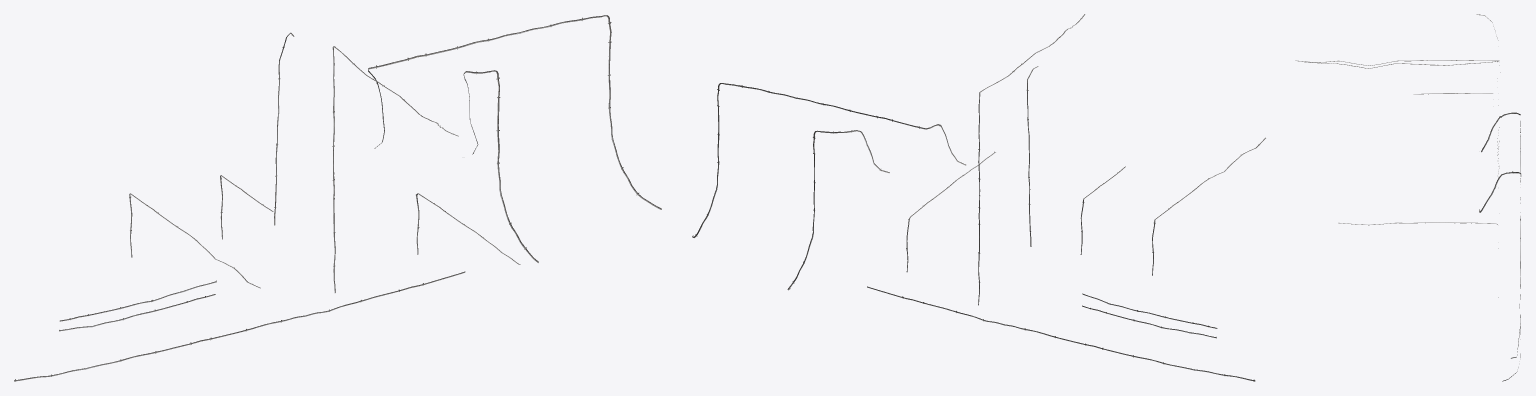
The model's file is ThickWires.FBX.
The picture shows the model from 3 angles, left to right: view 1: azimuth 30°, elevation 25°; view 2: azimuth 150°, elevation 25°; view 3: azimuth 270°, elevation 25°; orthographic projection. The views are drawn at different scales.
Visible parts, largest first — view 1: ThickWire_06, ThickWire_01, ThickWire_09, ThickWire_02; view 2: ThickWire_06, ThickWire_01, ThickWire_09; view 3: ThickWire_06, ThickWire_02, ThickWire_08, ThickWire_09.
Part boxes in pixels (x1=…): ThickWire_06: x1=368, y1=15, x2=661, y2=209; ThickWire_01: x1=14, y1=271, x2=465, y2=381; ThickWire_09: x1=332, y1=46, x2=458, y2=292; ThickWire_02: x1=463, y1=70, x2=538, y2=262; ThickWire_06: x1=692, y1=83, x2=965, y2=237; ThickWire_01: x1=867, y1=286, x2=1255, y2=381; ThickWire_09: x1=978, y1=14, x2=1085, y2=305; ThickWire_06: x1=1481, y1=112, x2=1520, y2=381; ThickWire_02: x1=1479, y1=171, x2=1521, y2=358; ThickWire_08: x1=1295, y1=60, x2=1500, y2=72; ThickWire_09: x1=1304, y1=61, x2=1498, y2=68.
Size of the model in its own units: 657 by 297 by 251.
1 material, 1 textured.
